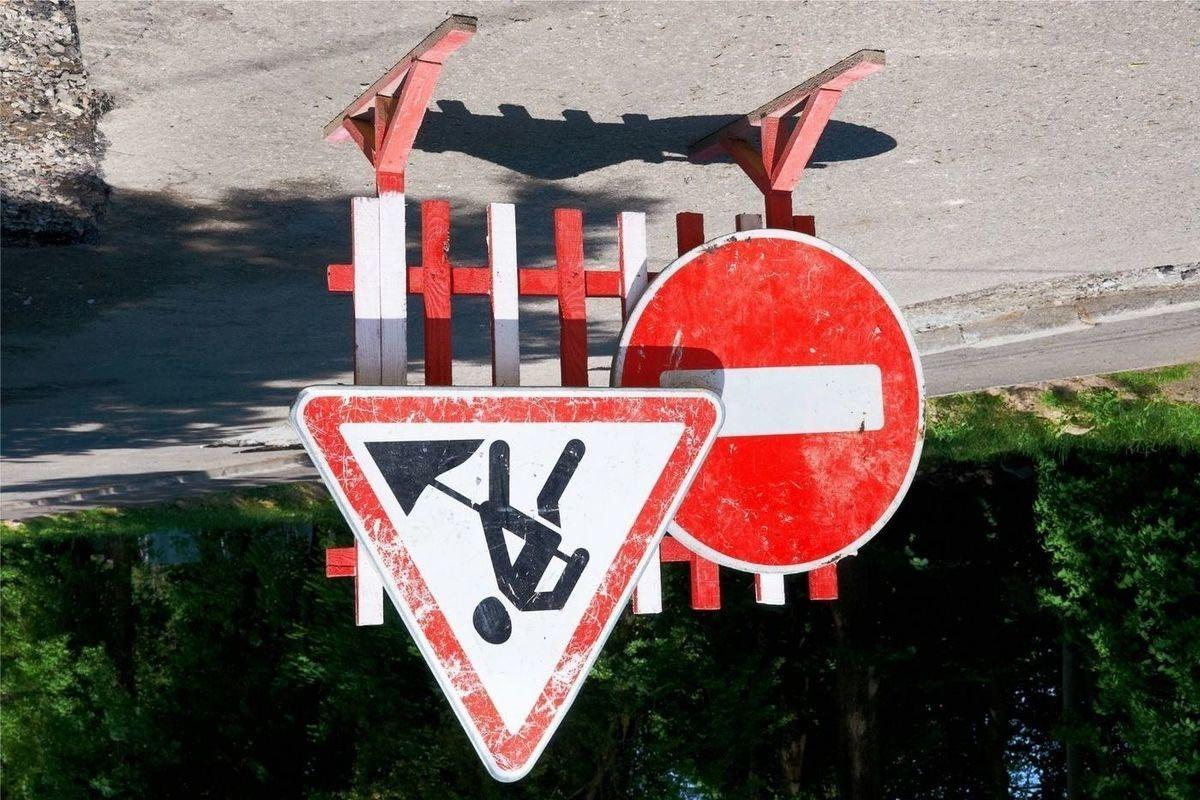obstructed_road_sign: (613, 226, 930, 576)
road_sign: (287, 385, 725, 779)
